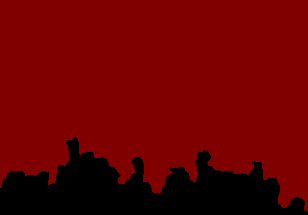Sky: (1, 1, 307, 210)
